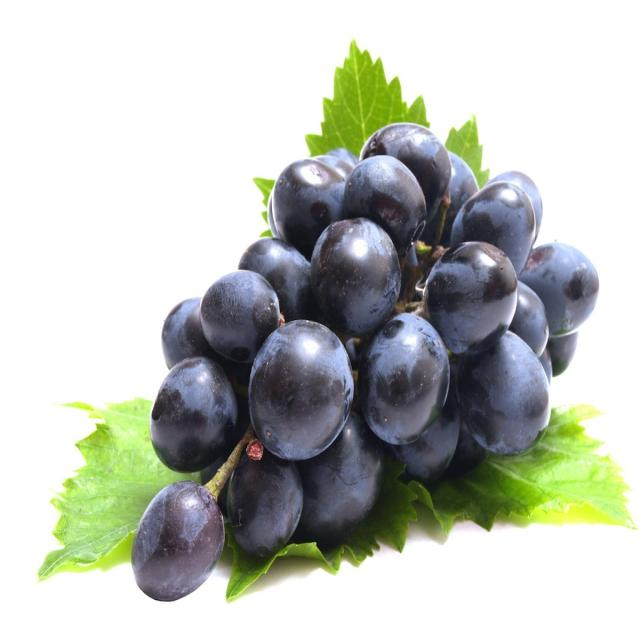grape: (132, 122, 596, 599)
